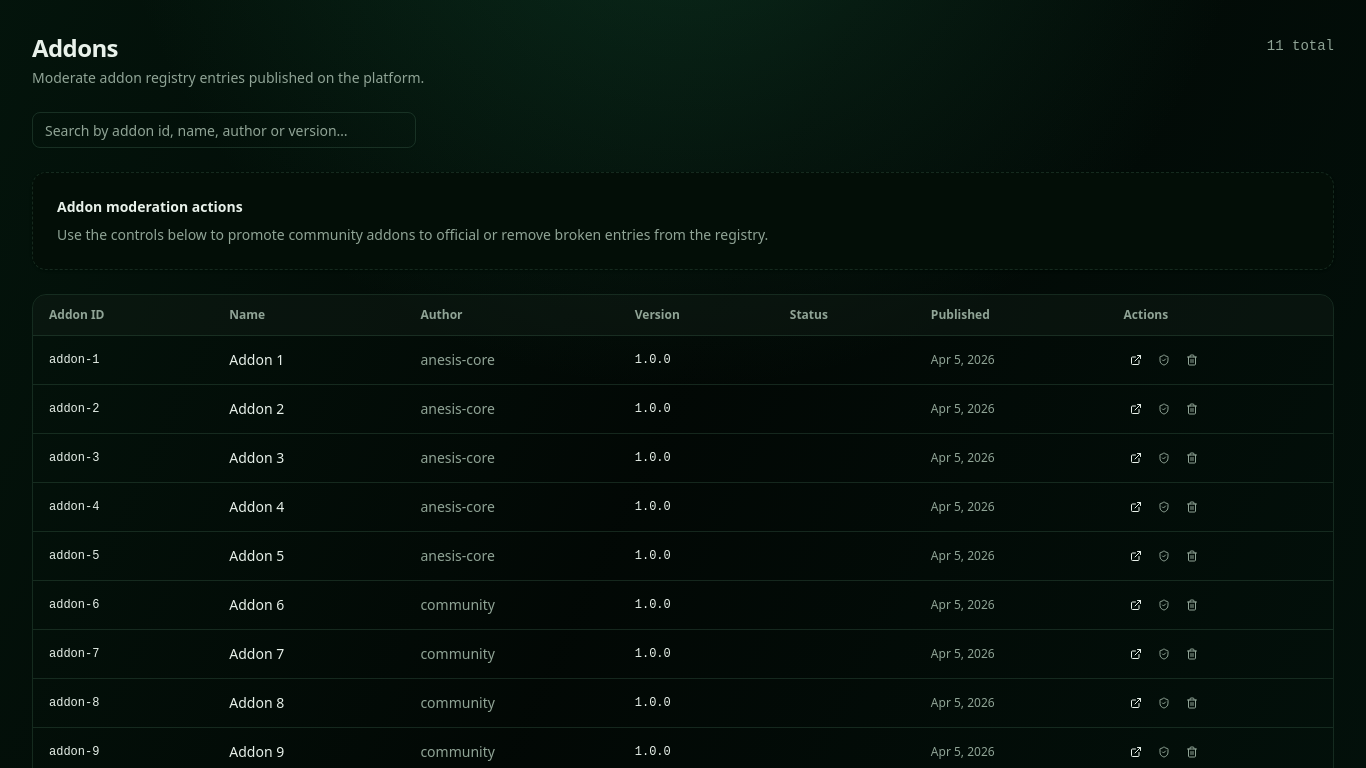
Test case: AdminAddonsPage › renders moderation controls and filters addons
The image size is (1366, 768).
Expected: the text "Addon moderation actions" is shown, [57,197,243,216]
Expected: the text "11 total" is shown, [1267,36,1334,56]
Type "anesis-core" into the field with placeholder "Search by addon id, name, author or version…" at (224,130), box [32,112,416,148]
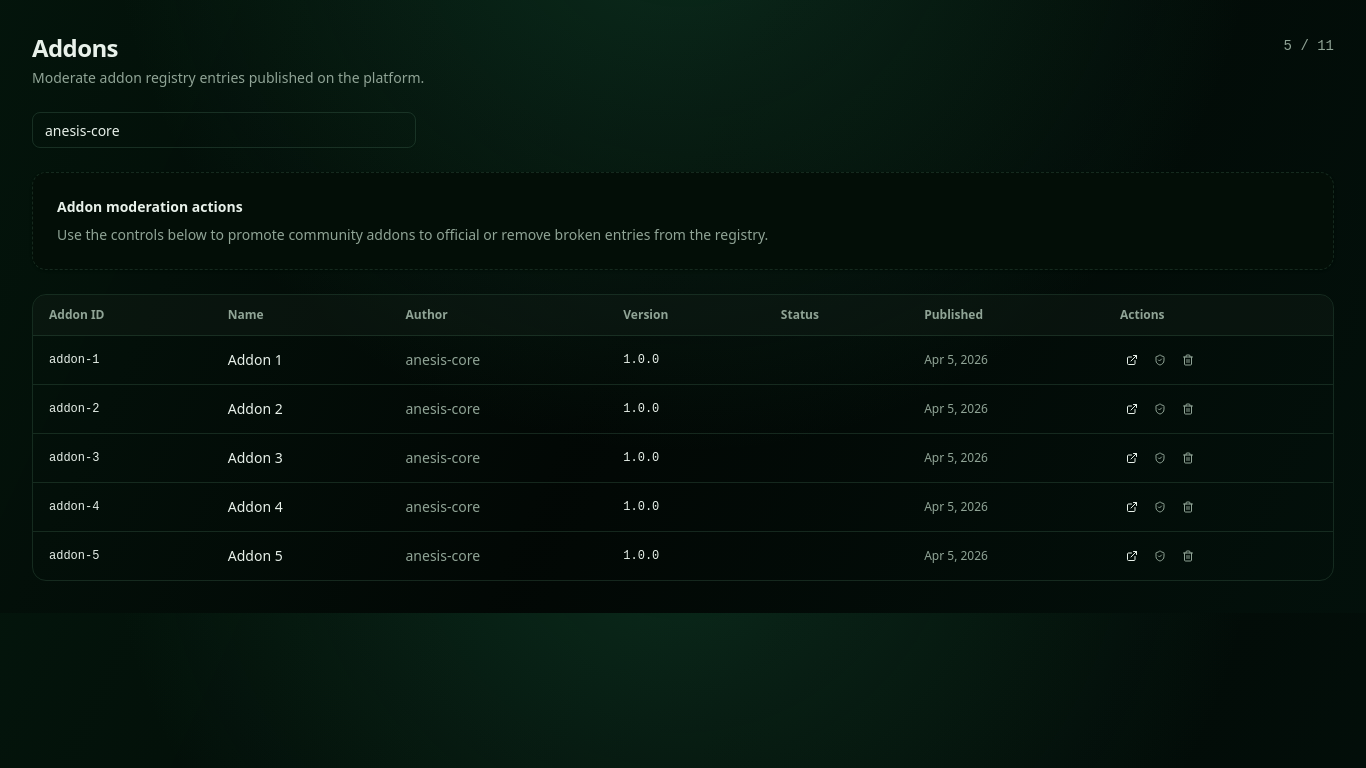
Expected: the text "Addon 1" is shown, [212,336,390,384]
Result: the text "5 / 11" is shown at [1284,36,1334,56]
